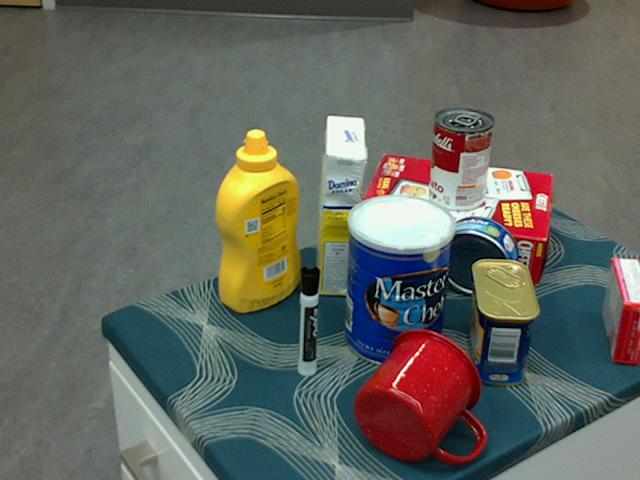cracker_box: (355, 156, 550, 282)
gelatin_box: (601, 258, 639, 365)
large_marker: (296, 263, 318, 378)
master_chef_can: (345, 194, 457, 368)
mug: (353, 328, 483, 464)
mustard_bottle: (214, 129, 301, 313)
potted_meat_can: (466, 259, 541, 386)
sugar_box: (315, 116, 365, 298)
tomato_soup_can: (429, 108, 494, 213)
tuna_fish_can: (437, 215, 519, 295)
